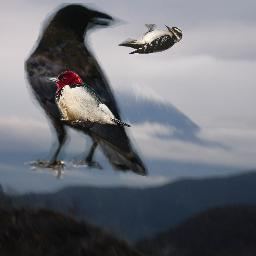Crow: (24, 3, 150, 181)
Woodpecker: (45, 71, 132, 127), (117, 24, 187, 57)
